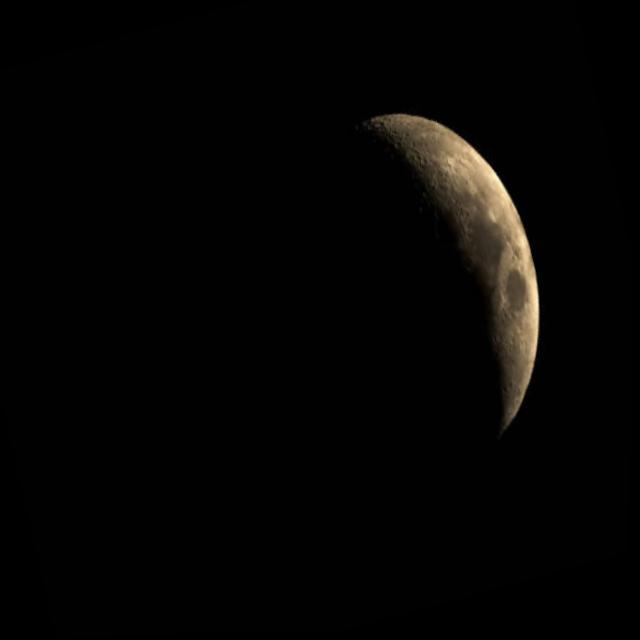moon: (266, 81, 596, 532)
